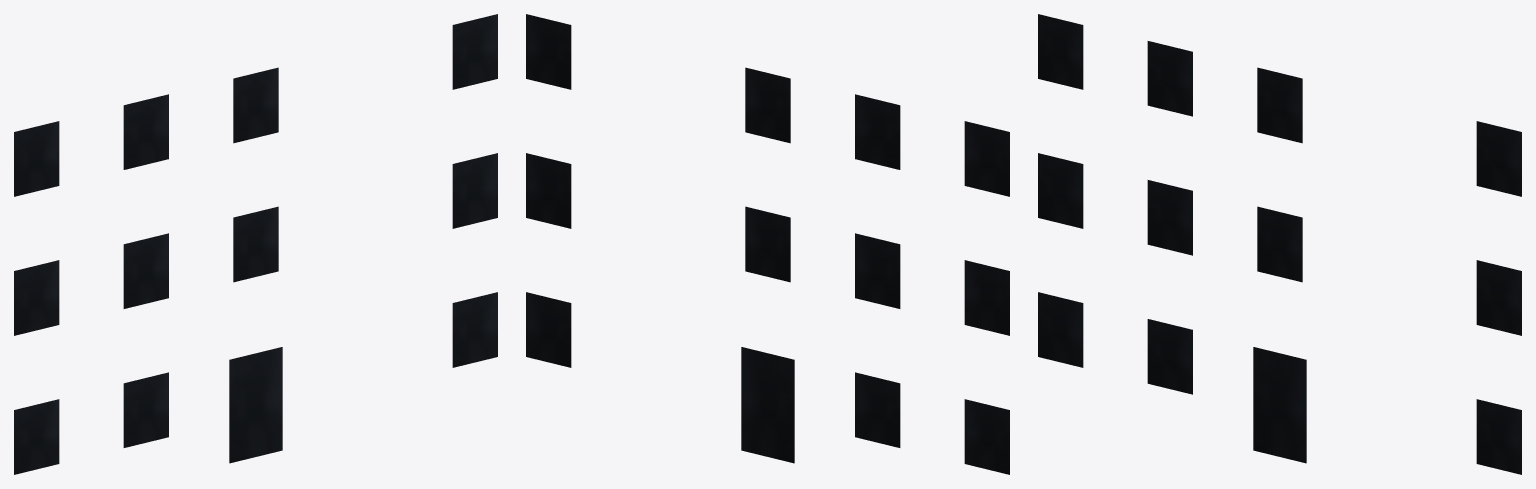
File: Street_BlockR1_Glass.obj
The picture shows the model from 3 angles, left to right: view 1: azimuth 30°, elevation 25°; view 2: azimuth 150°, elevation 25°; view 3: azimuth 330°, elevation 25°; orthographic projection.
Bounding box in the file's own units: 11.47 × 8.7 × 0.
1 material, 1 textured.
